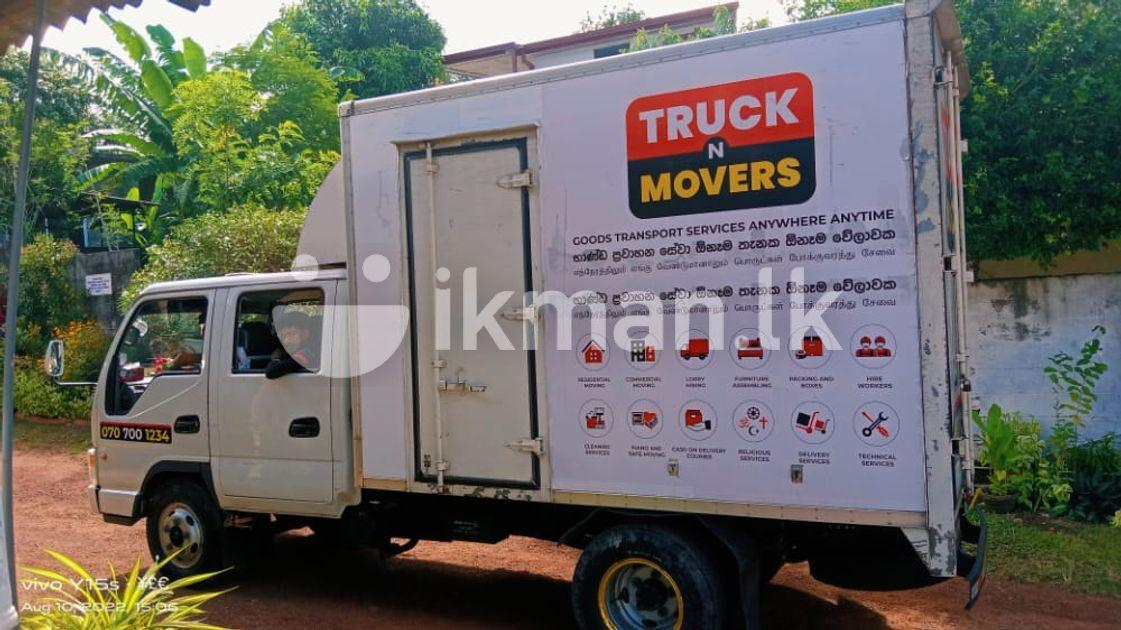truck: (46, 1, 985, 630)
